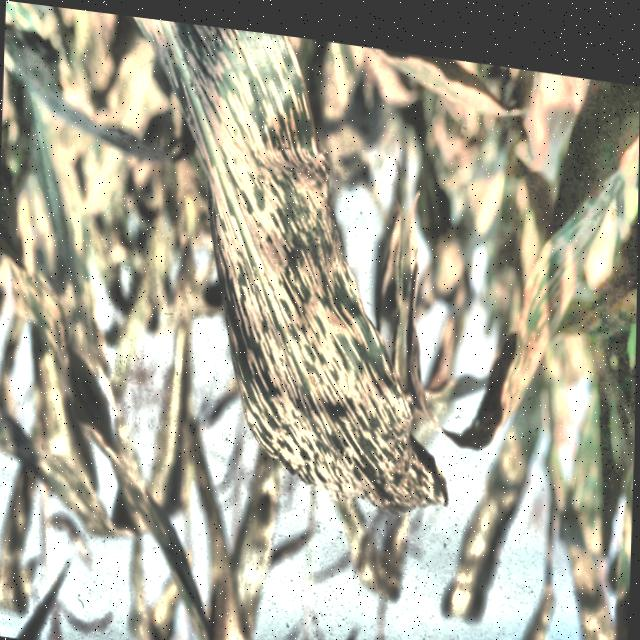gray_spot: (161, 37, 438, 510)
